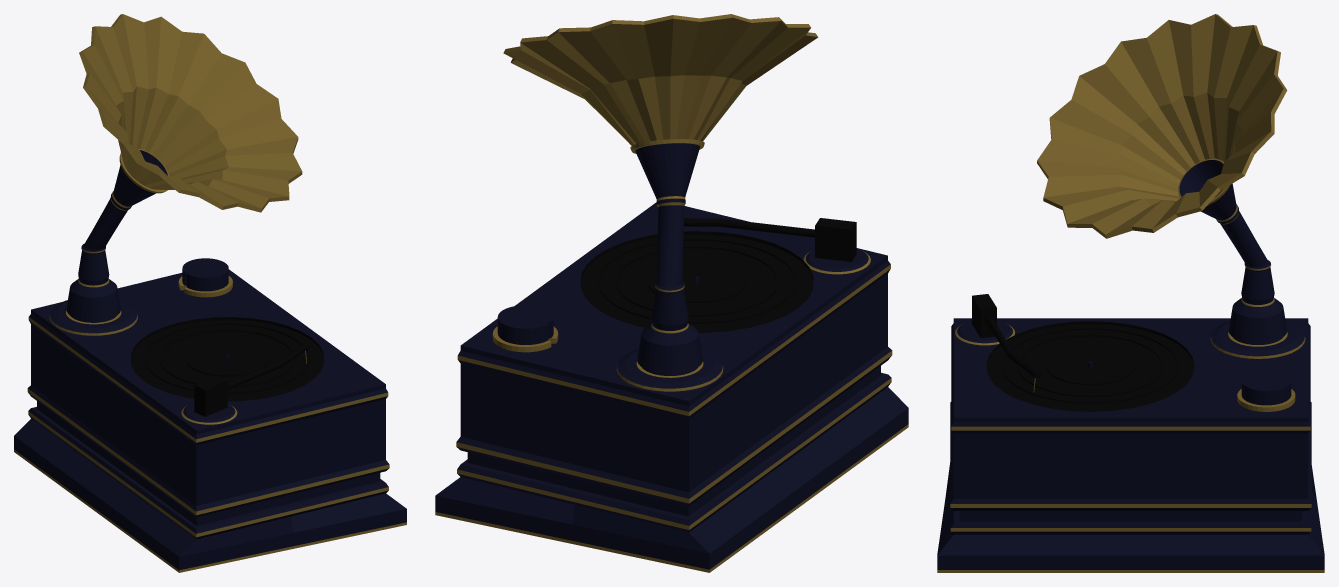
File: Gramophone.fbx
The picture shows the model from 3 angles, left to right: view 1: azimuth 30°, elevation 25°; view 2: azimuth 150°, elevation 25°; view 3: azimuth 270°, elevation 25°; orthographic projection. The views are drawn at different scales.
Parts seen in each view (by area): view 1: Cube, Cylinder.003, Cylinder, Cylinder.001, Cube.001, Cylinder.004, Cylinder.002; view 2: Cube, Cylinder.003, Cylinder, Cylinder.001, Cube.001, Cylinder.002, Cylinder.004, Cylinder.000; view 3: Cube, Cylinder.003, Cylinder, Cylinder.001, Cube.001, Cylinder.004, Cylinder.002, Cylinder.000.
Part boxes in pixels (x1,y1,x2,y2): Cube: (14, 269, 406, 572); Cylinder.003: (49, 14, 302, 335); Cylinder: (131, 317, 323, 401); Cylinder.001: (182, 258, 228, 291); Cube.001: (194, 376, 227, 416); Cylinder.004: (181, 403, 237, 424); Cylinder.002: (227, 342, 309, 389); Cube: (435, 202, 908, 572); Cylinder.003: (503, 14, 818, 391); Cylinder: (580, 231, 813, 332); Cylinder.001: (497, 305, 553, 344); Cube.001: (815, 218, 856, 261); Cylinder.002: (683, 218, 814, 237); Cylinder.004: (803, 248, 870, 274); Cylinder.000: (492, 326, 558, 352); Cube: (937, 318, 1324, 572); Cylinder.003: (1037, 14, 1305, 358); Cylinder: (986, 321, 1194, 411); Cylinder.001: (1241, 370, 1291, 405); Cube.001: (972, 294, 996, 337); Cylinder.004: (955, 320, 1014, 345); Cylinder.002: (985, 316, 1040, 392); Cylinder.000: (1237, 389, 1295, 411).
Size of the model in its own units: 377 by 705 by 536.
